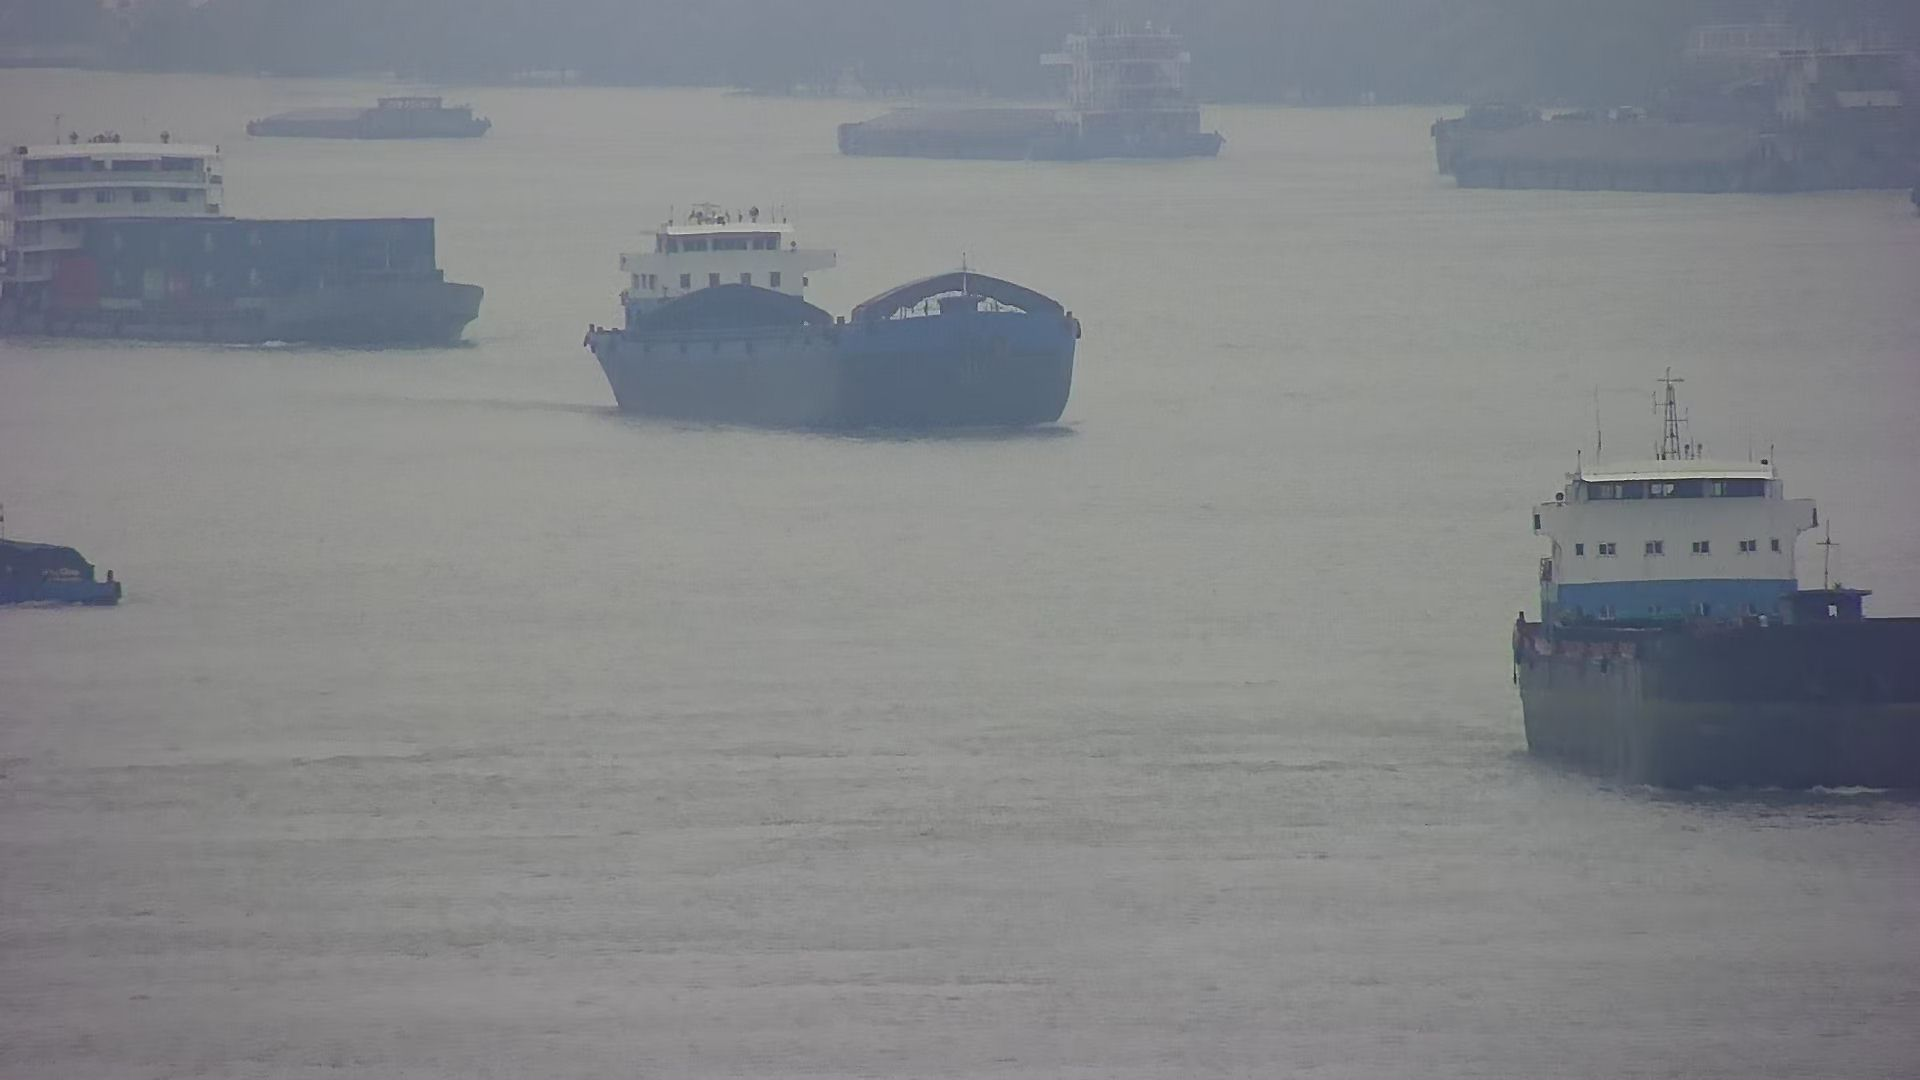ship: (1498, 382, 1920, 799), (1, 123, 483, 351), (596, 208, 1077, 429), (1441, 45, 1920, 195), (831, 20, 1230, 161), (1, 520, 124, 618), (233, 92, 483, 138)
